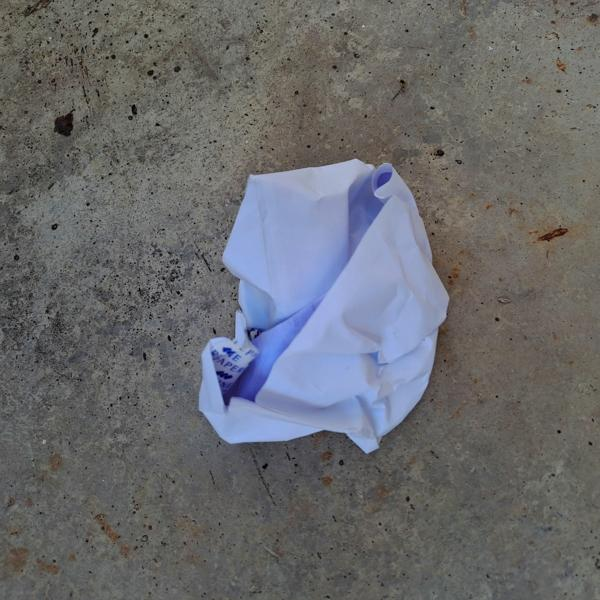Organik: (163, 154, 467, 463)
